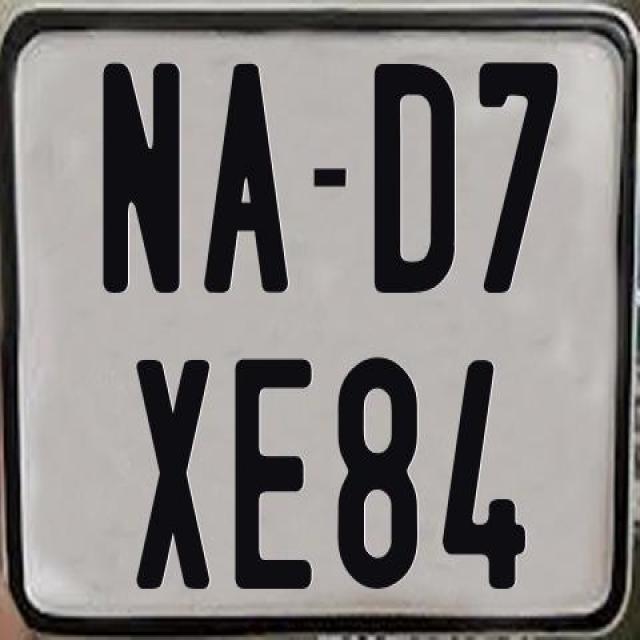4: (438, 356, 530, 588)
7: (478, 59, 562, 298)
8: (333, 355, 418, 587)
A: (202, 64, 290, 296)
D: (371, 60, 458, 298)
E: (233, 357, 311, 597)
N: (98, 58, 178, 292)
X: (136, 355, 212, 584)
